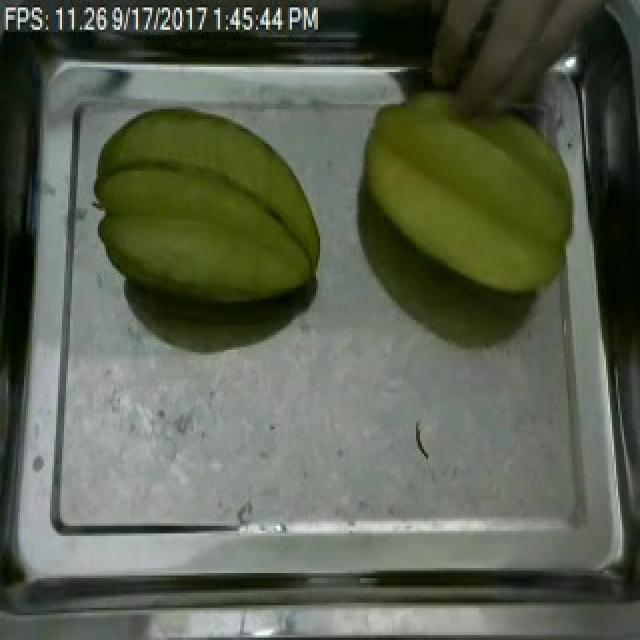fruit: (346, 85, 586, 312), (86, 102, 330, 315)
